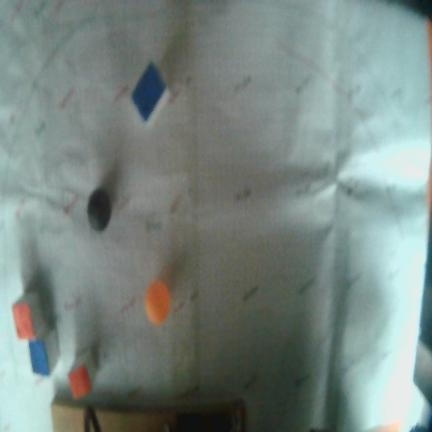circle_blue: (87, 187, 112, 231)
circle_orange: (144, 280, 170, 324)
rectangle_blue: (132, 59, 165, 122)
rectangle_orange: (68, 365, 91, 400)
square_blue: (29, 340, 49, 375)
square_orange: (11, 303, 35, 339)
